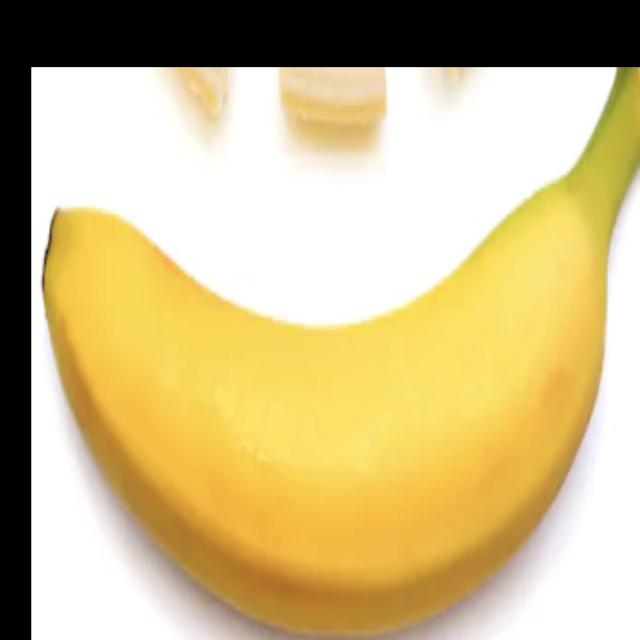Ripe: (26, 107, 640, 634)
